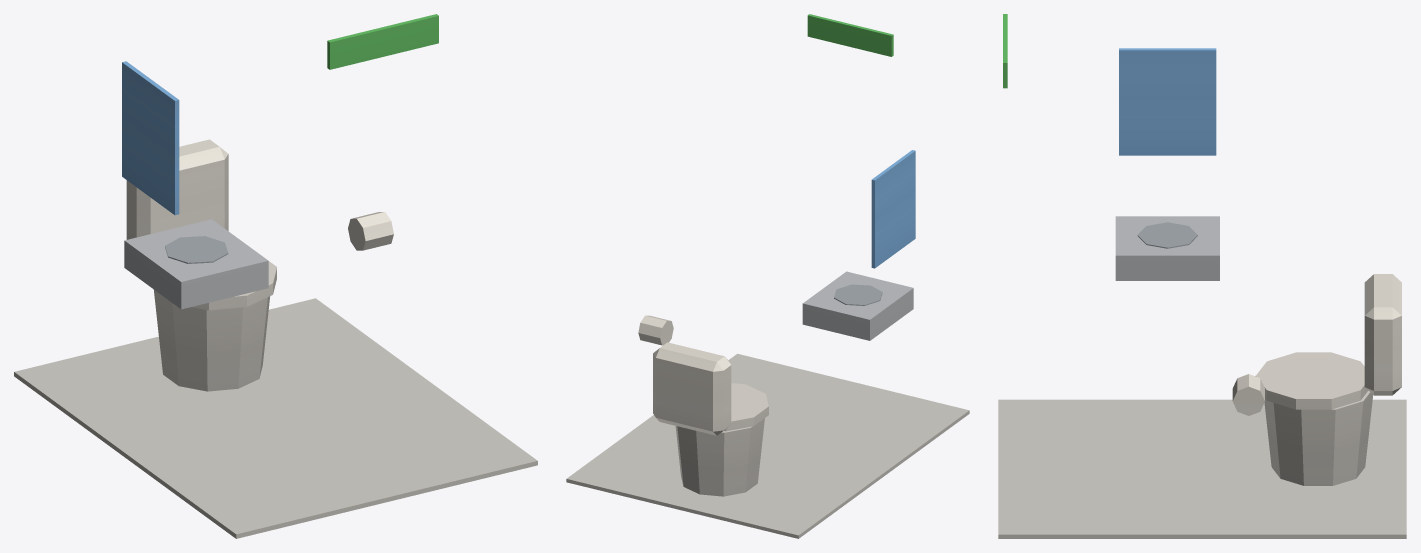
File: Banheiro.fbx
The picture shows the model from 3 angles, left to right: view 1: azimuth 30°, elevation 25°; view 2: azimuth 150°, elevation 25°; view 3: azimuth 270°, elevation 25°; orthographic projection. The views are drawn at different scales.
Visible parts, largest first — view 1: Banheiro_Malha; view 2: Banheiro_Malha; view 3: Banheiro_Malha.
Part boxes in pixels (x1,y1,x2,y2): Banheiro_Malha: [14, 14, 537, 538]; Banheiro_Malha: [566, 14, 969, 538]; Banheiro_Malha: [998, 14, 1406, 538].
Size of the model in its own units: 1.38 by 2.06 by 1.76.
